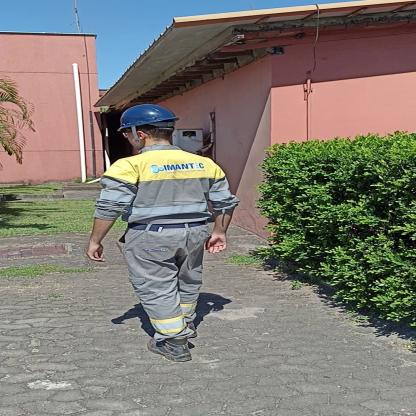Capacete: (117, 103, 177, 128)
